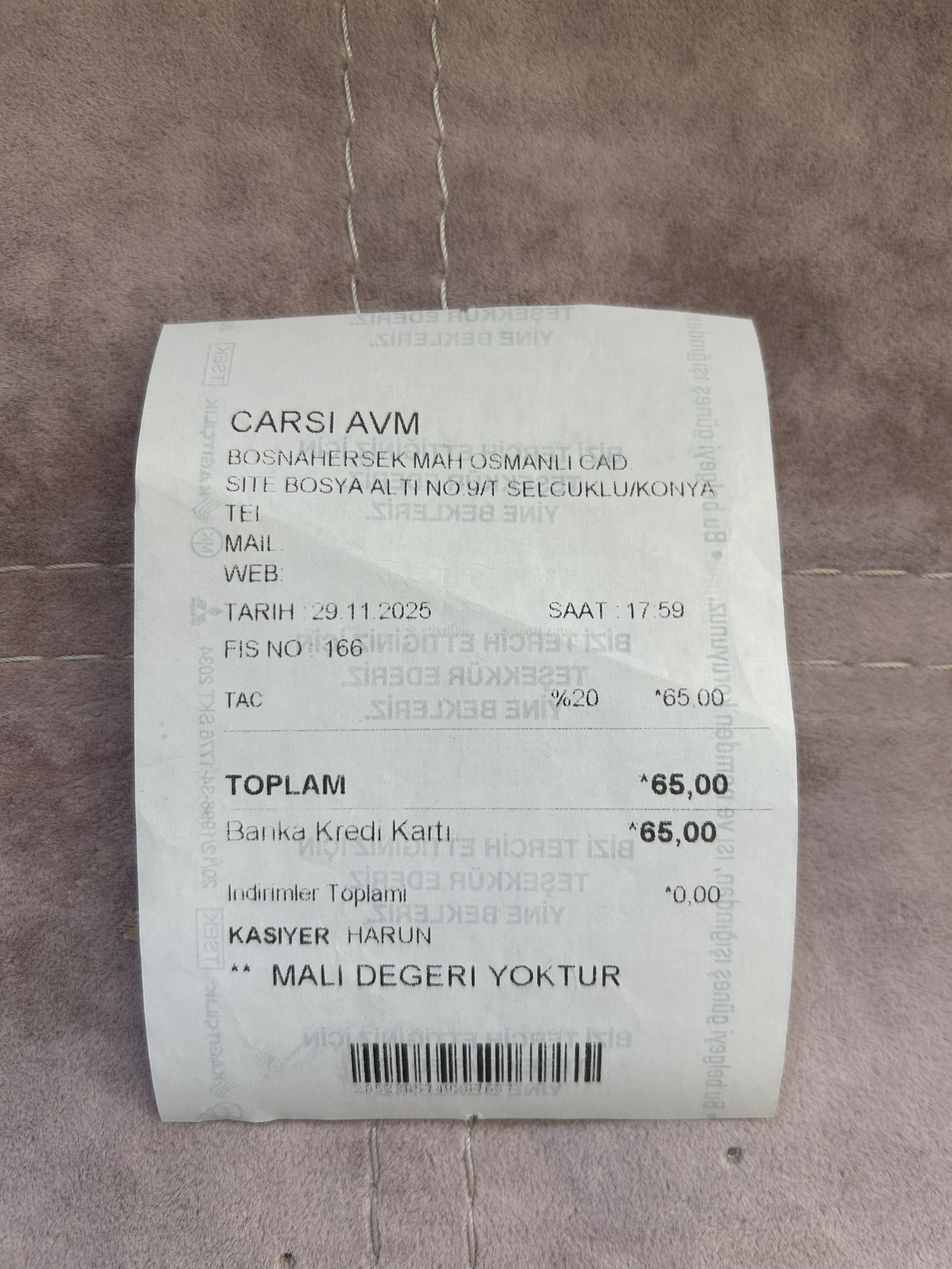date: (309, 592, 438, 632)
price: (645, 763, 753, 806)
workplace: (217, 395, 728, 505)
